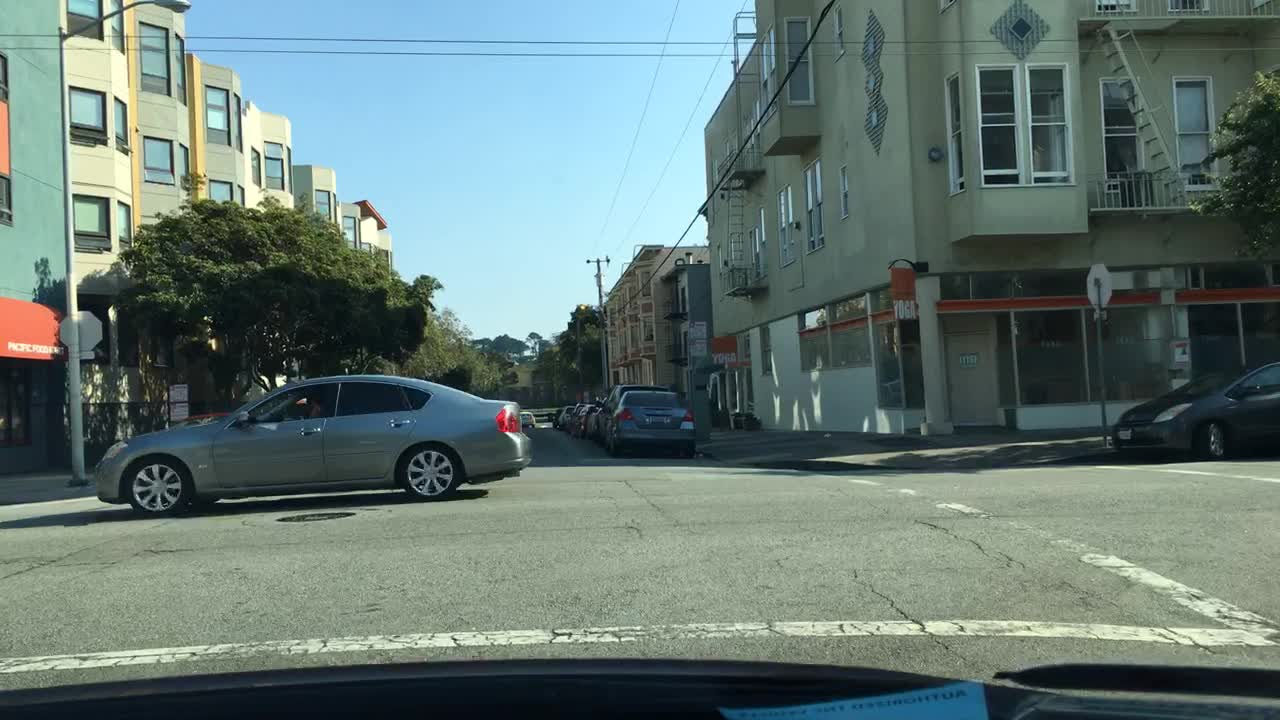car: (95, 370, 529, 511), (1108, 356, 1278, 459), (608, 388, 697, 457), (593, 385, 668, 439), (565, 404, 584, 434), (579, 404, 594, 436), (514, 407, 532, 427), (559, 404, 573, 425), (548, 407, 561, 427)
traffic sign: (59, 313, 101, 352), (1081, 264, 1113, 306), (168, 384, 188, 420)
